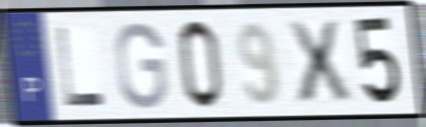0: (176, 17, 225, 112)
5: (352, 15, 402, 107)
9: (236, 19, 282, 108)
G: (113, 19, 170, 112)
L: (53, 24, 108, 110)
X: (283, 18, 355, 107)
